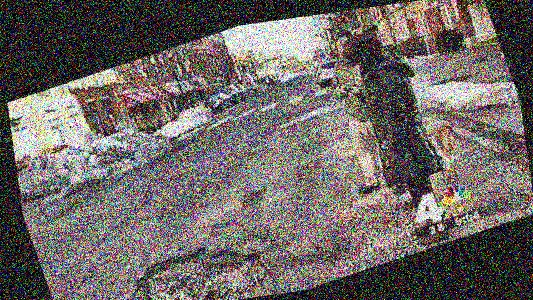pothole: (123, 224, 276, 300)
